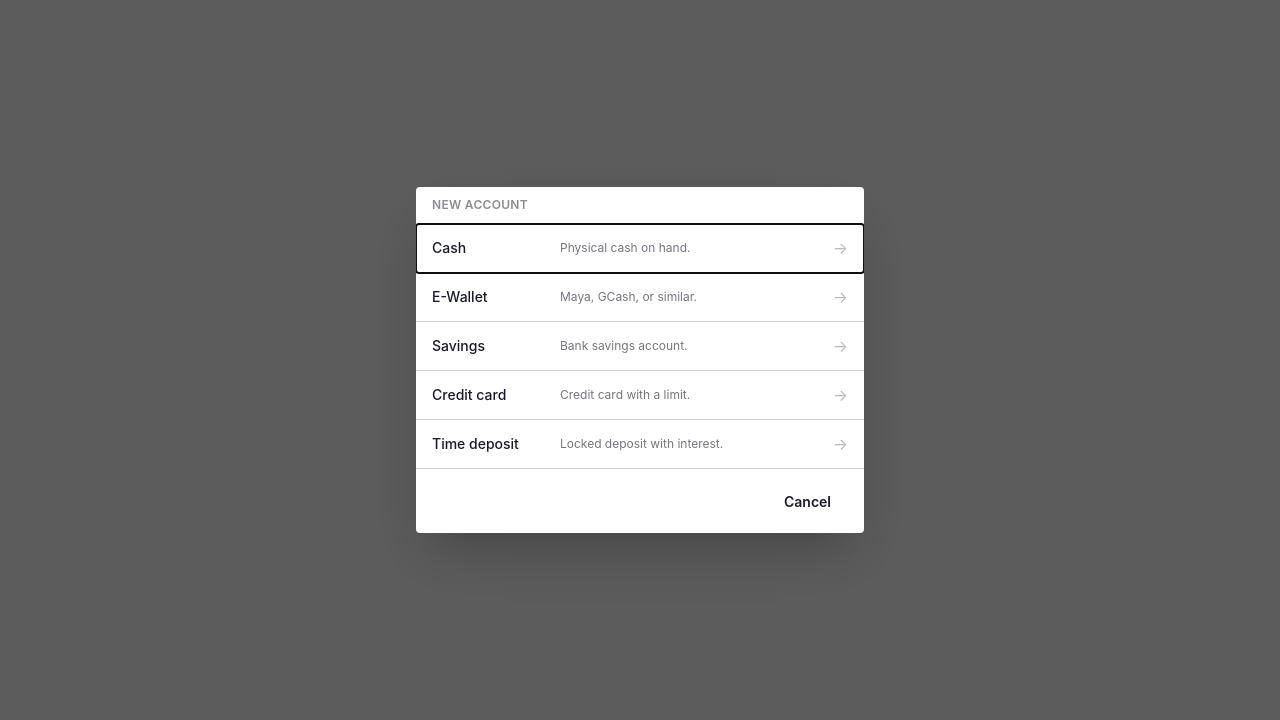
NewAccountModal — type picker › reveals the cash form after picking Cash
What coordinates should you click on to do the following:
click the button "Cash Physical cash on hand. →"
I would click on:
 (640, 248)
Its box is [416,224,864,273].
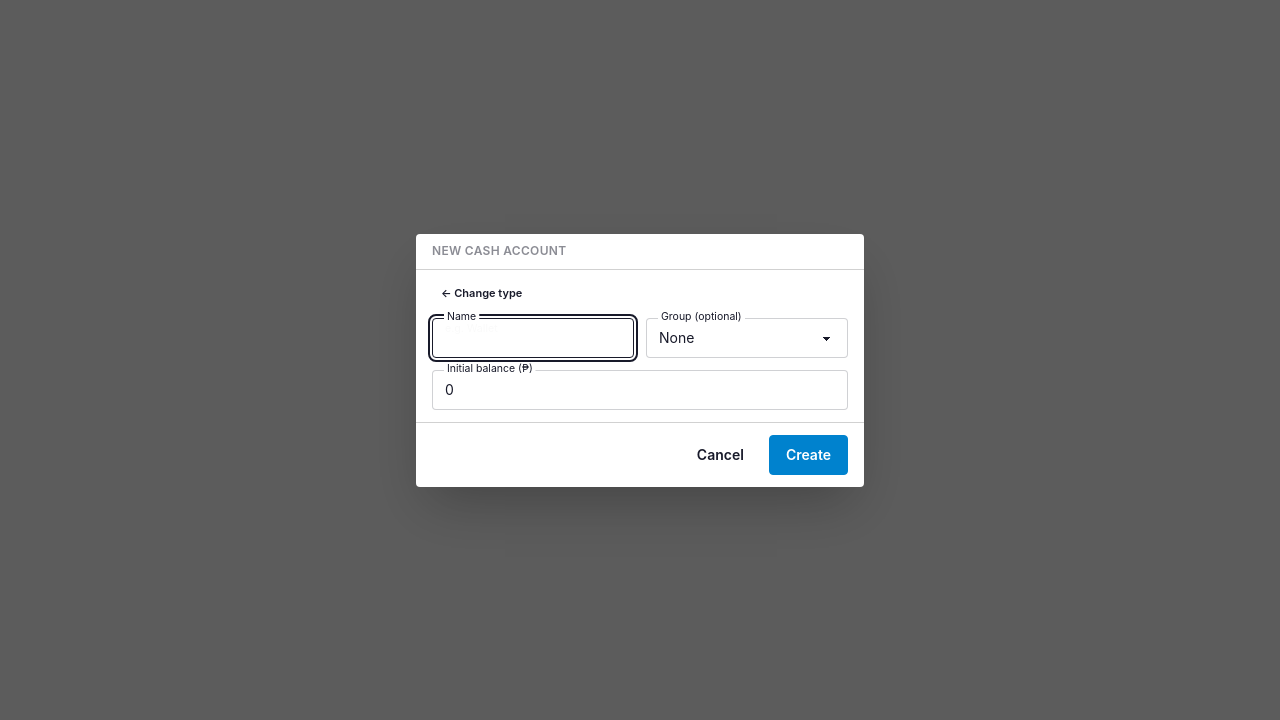
expect the field labelled "Name" is shown: met, box [432,318,634,358]
expect the number field labelled "Initial balance (₱)" is shown: met, box [432,370,848,410]
